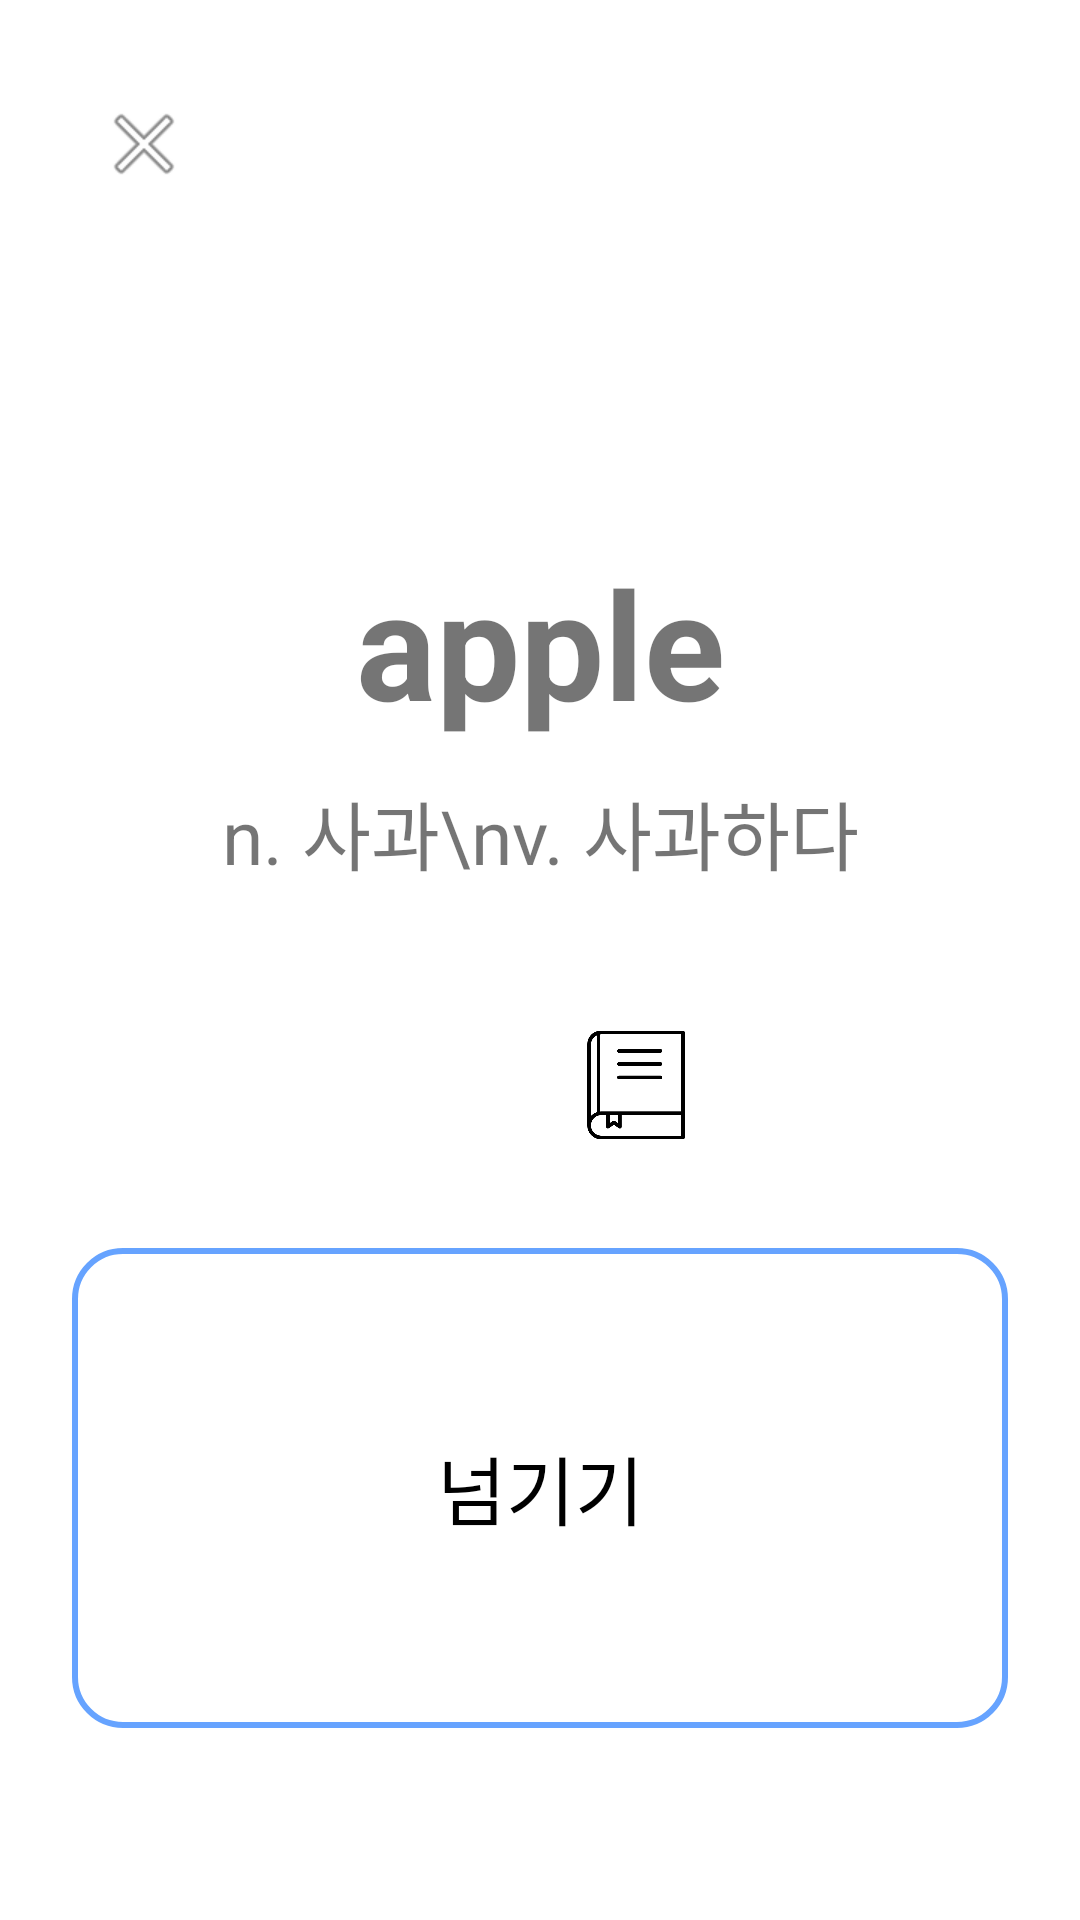

Icon click points for this 1080x1920 phone screenshot, format (x,y):
닫기: (144,144)
사전 보기: (636,1085)
